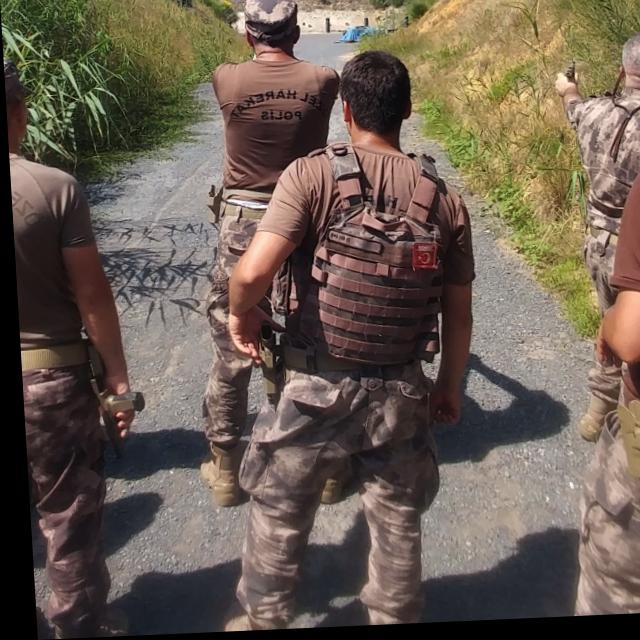poh_personel: (214, 51, 487, 632), (172, 0, 358, 505), (4, 58, 152, 640), (553, 39, 640, 441)
